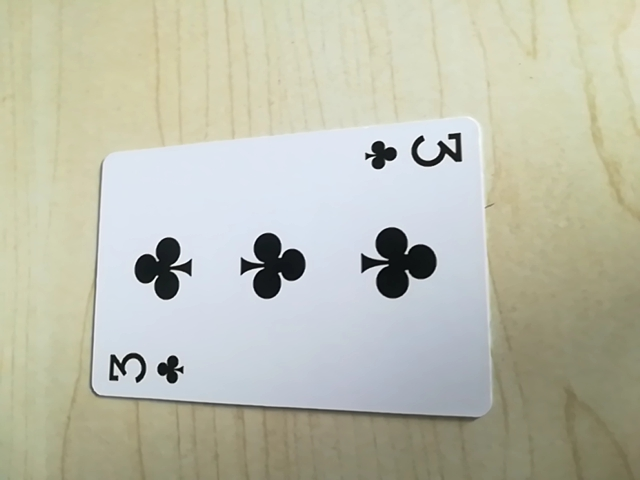mh 3: (363, 127, 468, 173), (100, 344, 188, 393)
